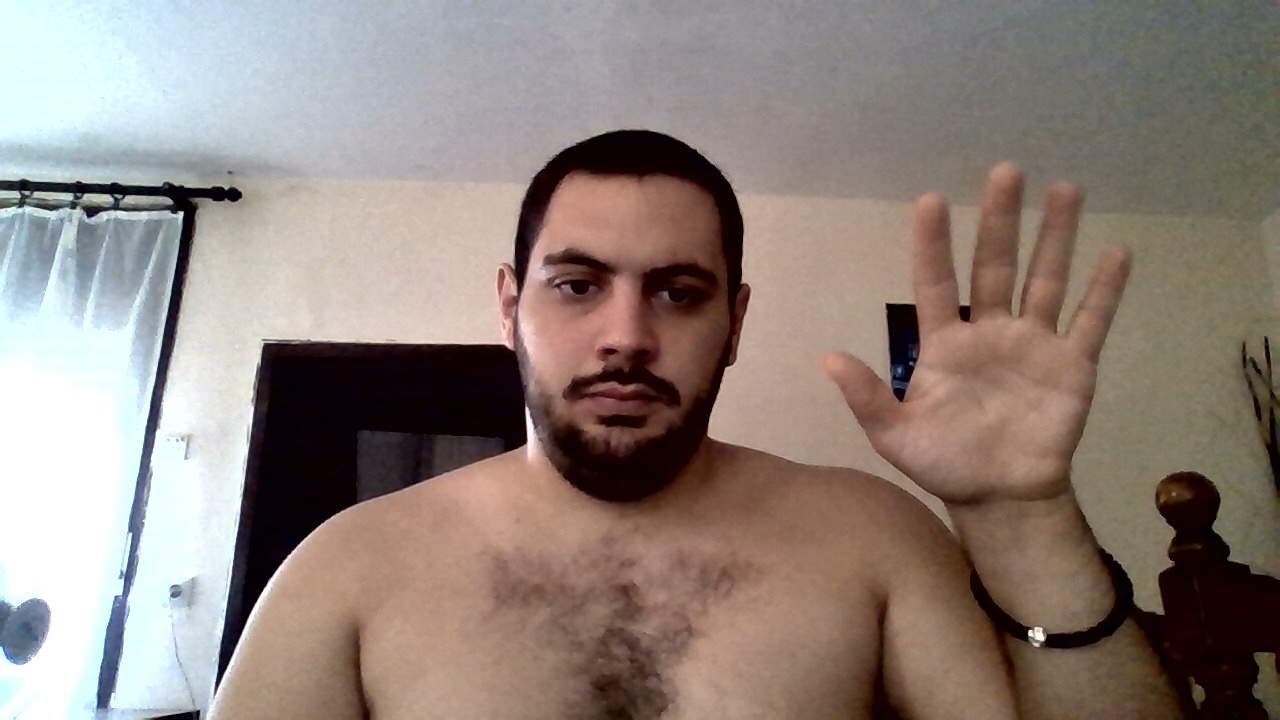palm: (825, 158, 1139, 498)
